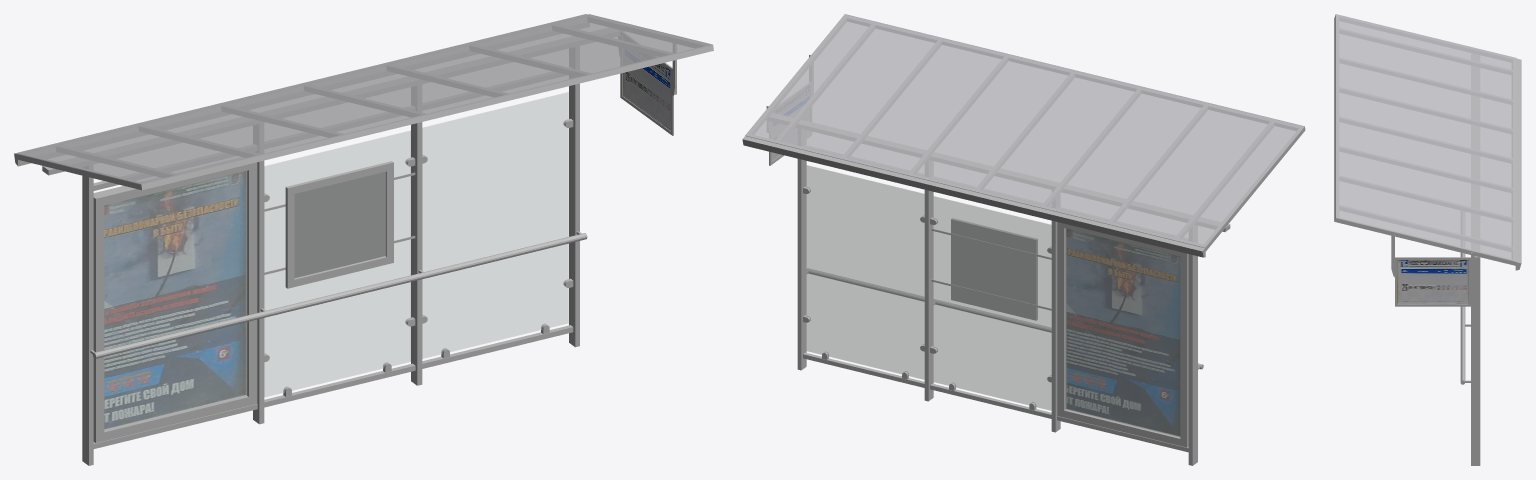
Rendered from Bus stop.fbx.
The picture shows the model from 3 angles, left to right: view 1: azimuth 30°, elevation 25°; view 2: azimuth 150°, elevation 25°; view 3: azimuth 270°, elevation 25°; orthographic projection. The views are drawn at different scales.
Parts seen in each view (by area): view 1: Bus stop (×9), Timetable; view 2: Bus stop (×8), Timetable; view 3: Bus stop (×3), Timetable.
Part boxes in pixels (x1,y1,x2,y2): Bus stop (×9): (14,14,713,465); Timetable: (618,31,676,135); Bus stop (×8): (742,14,1305,465); Timetable: (766,55,813,165); Bus stop (×3): (1334,14,1521,465); Timetable: (1391,234,1474,306).
Bounding box in the file's own units: 414 × 160 × 247.
Materials: 6 (2 with a texture image).
